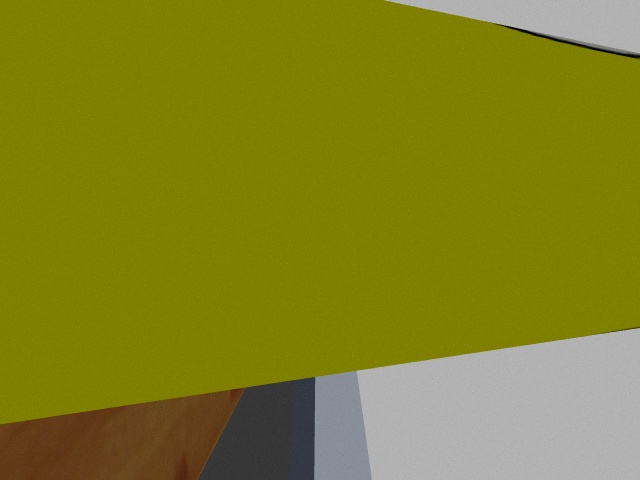chipsdose_gelb: (1, 1, 640, 425)
